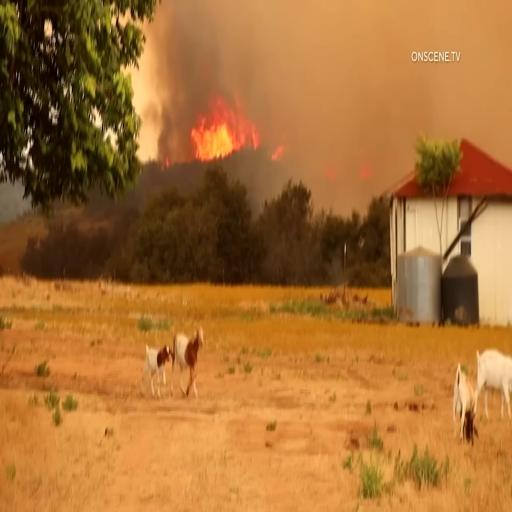fire: (188, 81, 256, 165)
